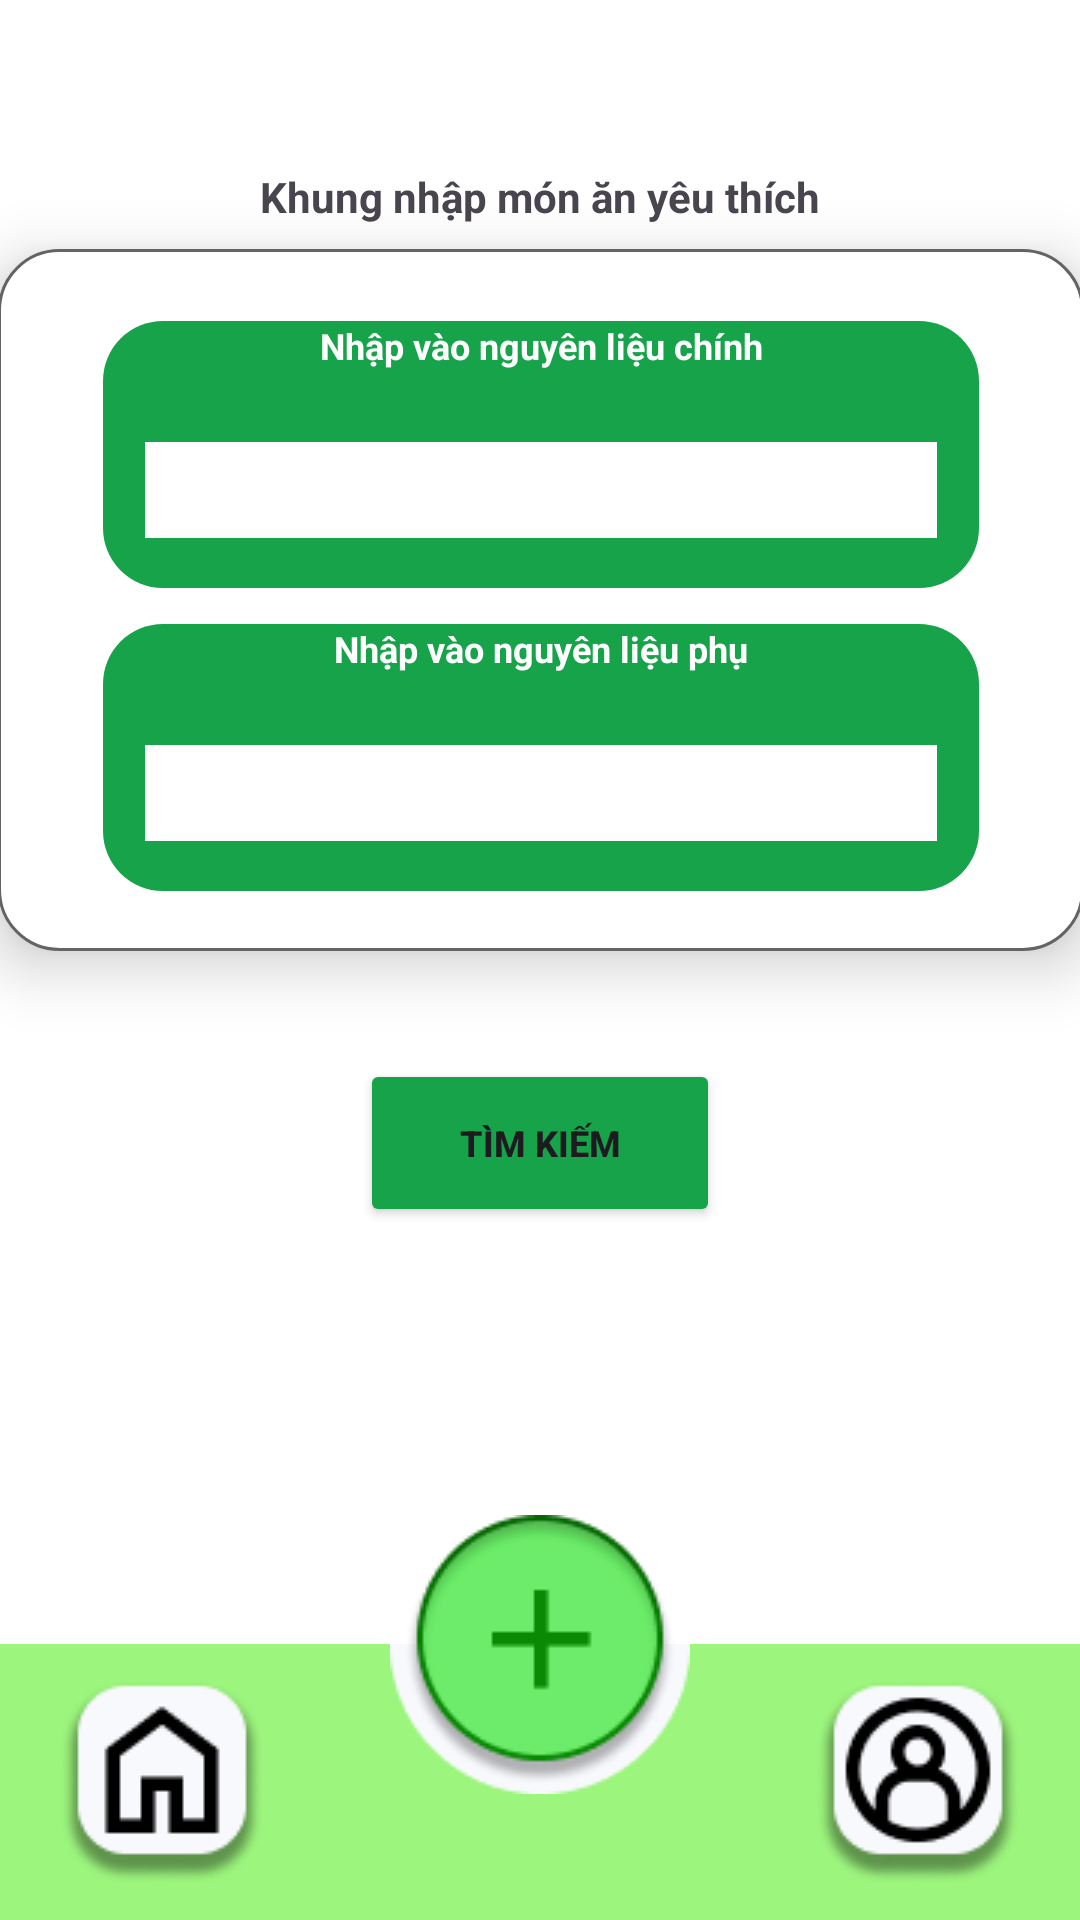

Locate icon controls on the screen. Image size 1080 × 1920, boxes as region(x1, y1, x2, y2).
pajamas profile: region(824, 1685, 1012, 1876)
symbols home: region(68, 1685, 256, 1876)
